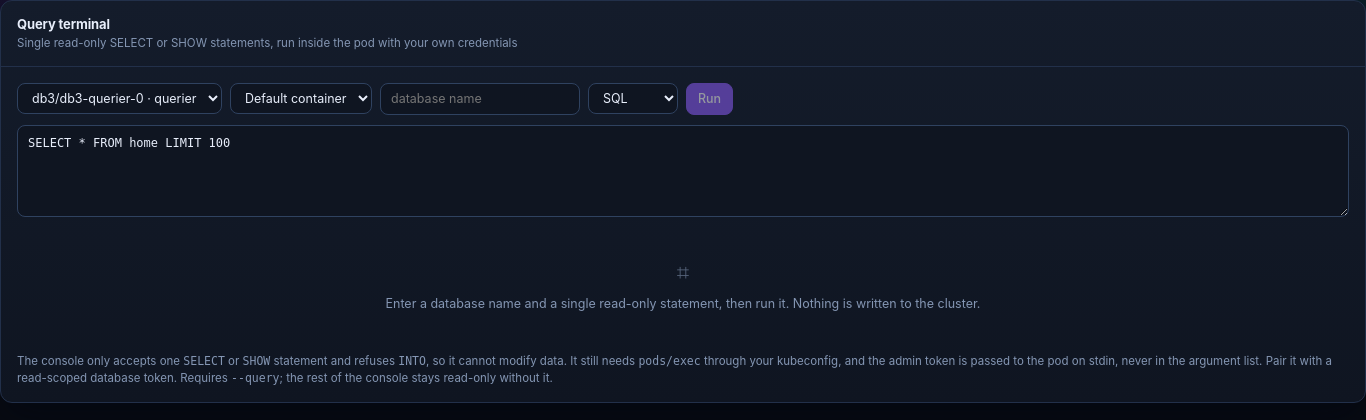
Test: run stays disabled until a database is provided
Check: the button "Run" is disabled, box [686, 82, 733, 115]
Type "mydb" into the field labelled "database name" at (480, 99), box [380, 82, 580, 115]
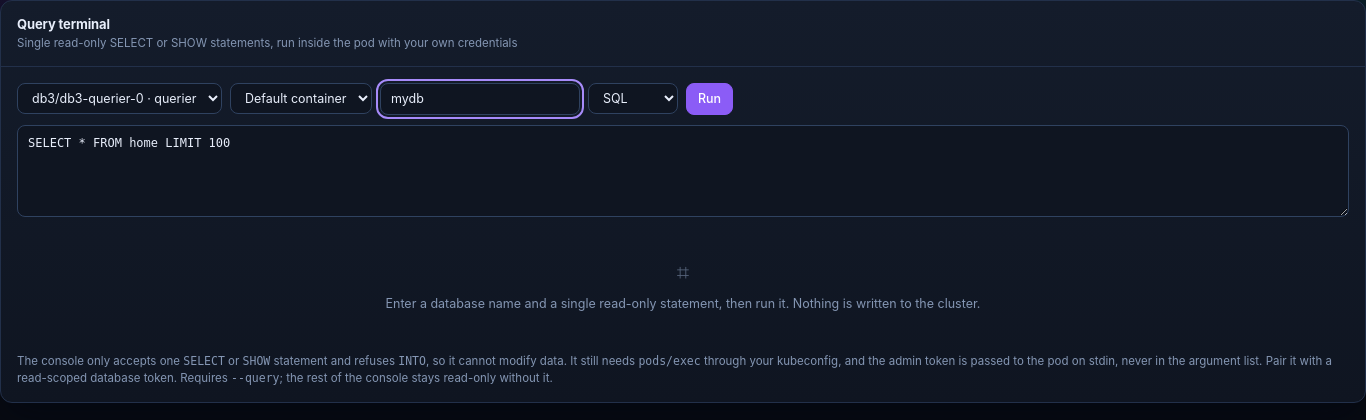
Check: the button "Run" is enabled, box [686, 82, 733, 115]
